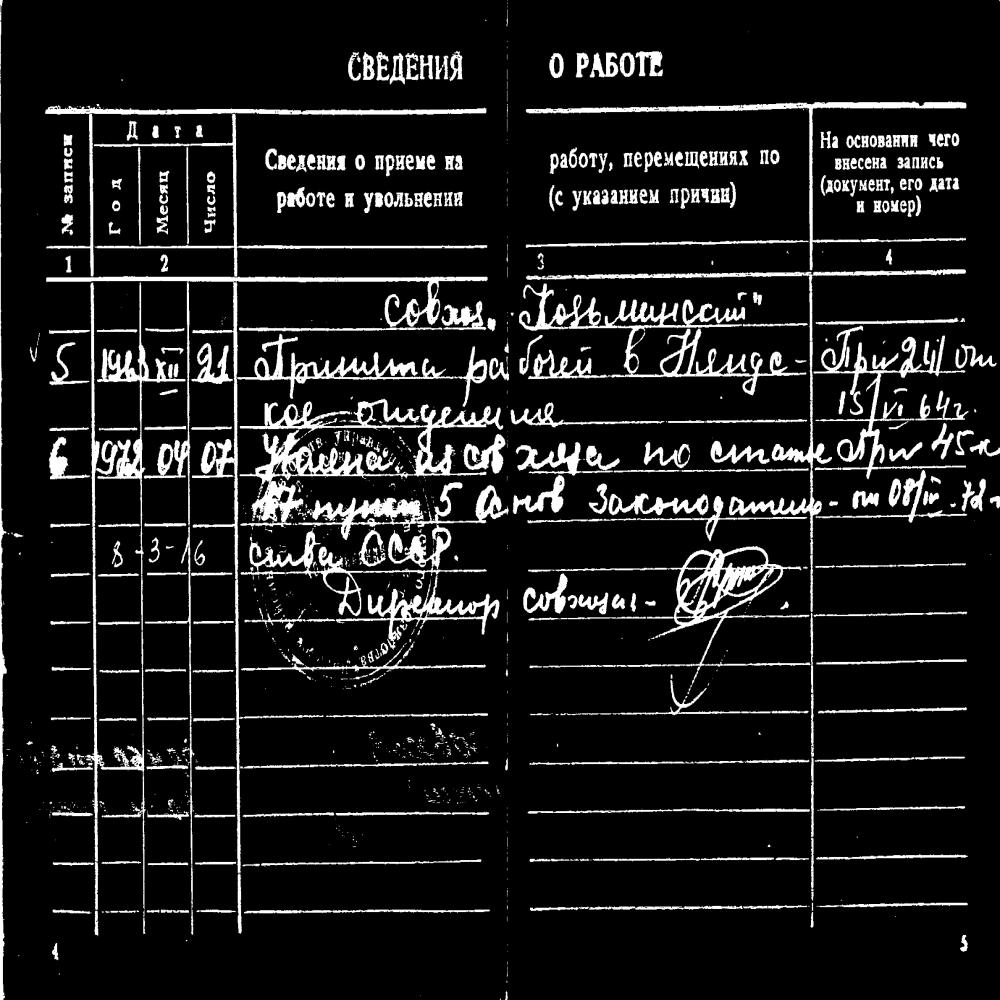rus: (376, 282, 780, 333), (580, 469, 825, 540), (251, 378, 573, 427), (324, 565, 511, 635), (248, 322, 452, 385), (613, 324, 804, 387), (39, 426, 235, 481), (819, 418, 1000, 474), (49, 333, 236, 382), (459, 334, 611, 390), (810, 326, 982, 368), (343, 32, 463, 86), (819, 375, 969, 418), (458, 436, 631, 471), (822, 486, 973, 523), (707, 432, 829, 468), (543, 50, 669, 82), (264, 136, 348, 183), (353, 146, 466, 178), (470, 480, 565, 518), (818, 124, 924, 156), (626, 144, 751, 169), (55, 130, 83, 238), (554, 181, 658, 208), (274, 188, 361, 219), (670, 178, 742, 214), (360, 187, 475, 209), (855, 195, 929, 228), (824, 167, 895, 197), (536, 150, 616, 175), (150, 168, 178, 239), (644, 432, 690, 469), (106, 170, 130, 237), (202, 163, 220, 243), (902, 175, 959, 198), (754, 139, 785, 181), (835, 150, 889, 174), (427, 480, 457, 516), (923, 130, 966, 152), (893, 155, 950, 170)
